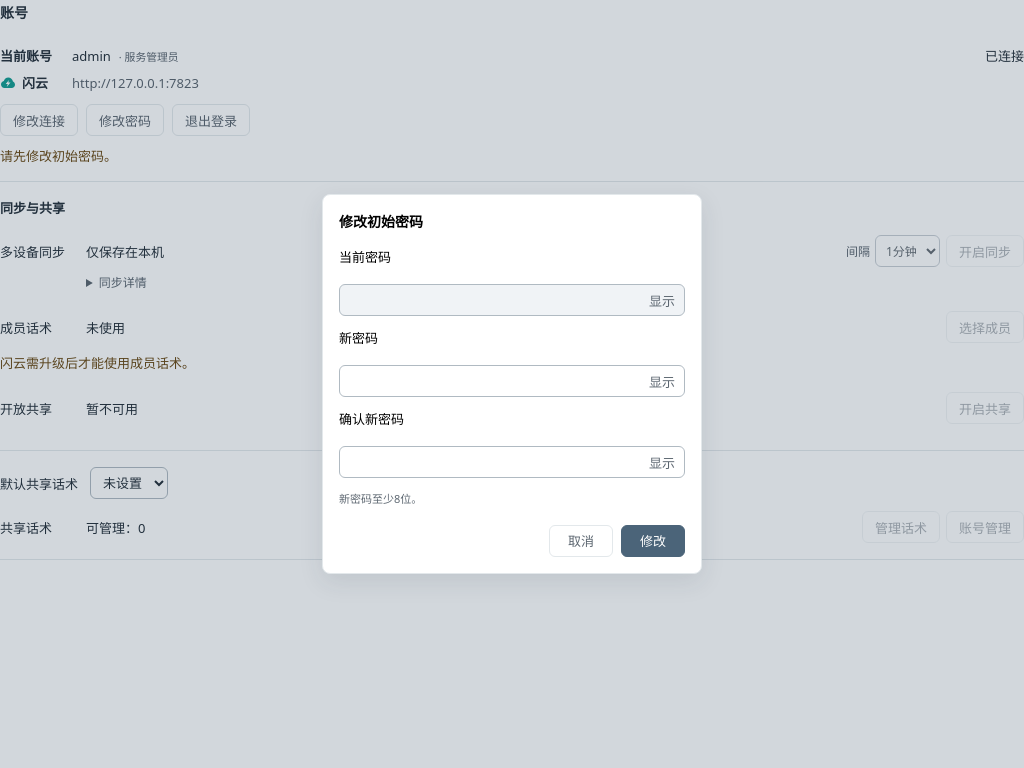
Scenario: 首次改密自动弹出，取消保留提醒并禁止管理及同步提交
Click the button "取消" at (581, 541), box [549,525,613,557]
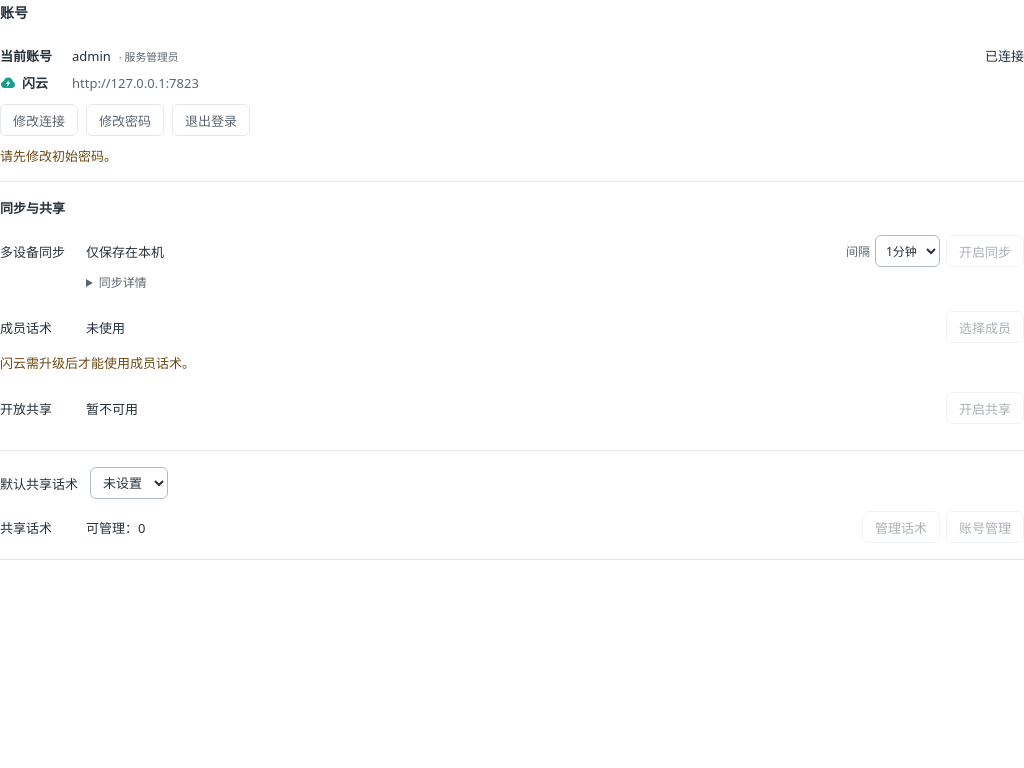
Check: the text "请先修改初始密码。" is shown, box [0,147,117,165]
Check: the dialog is gone
